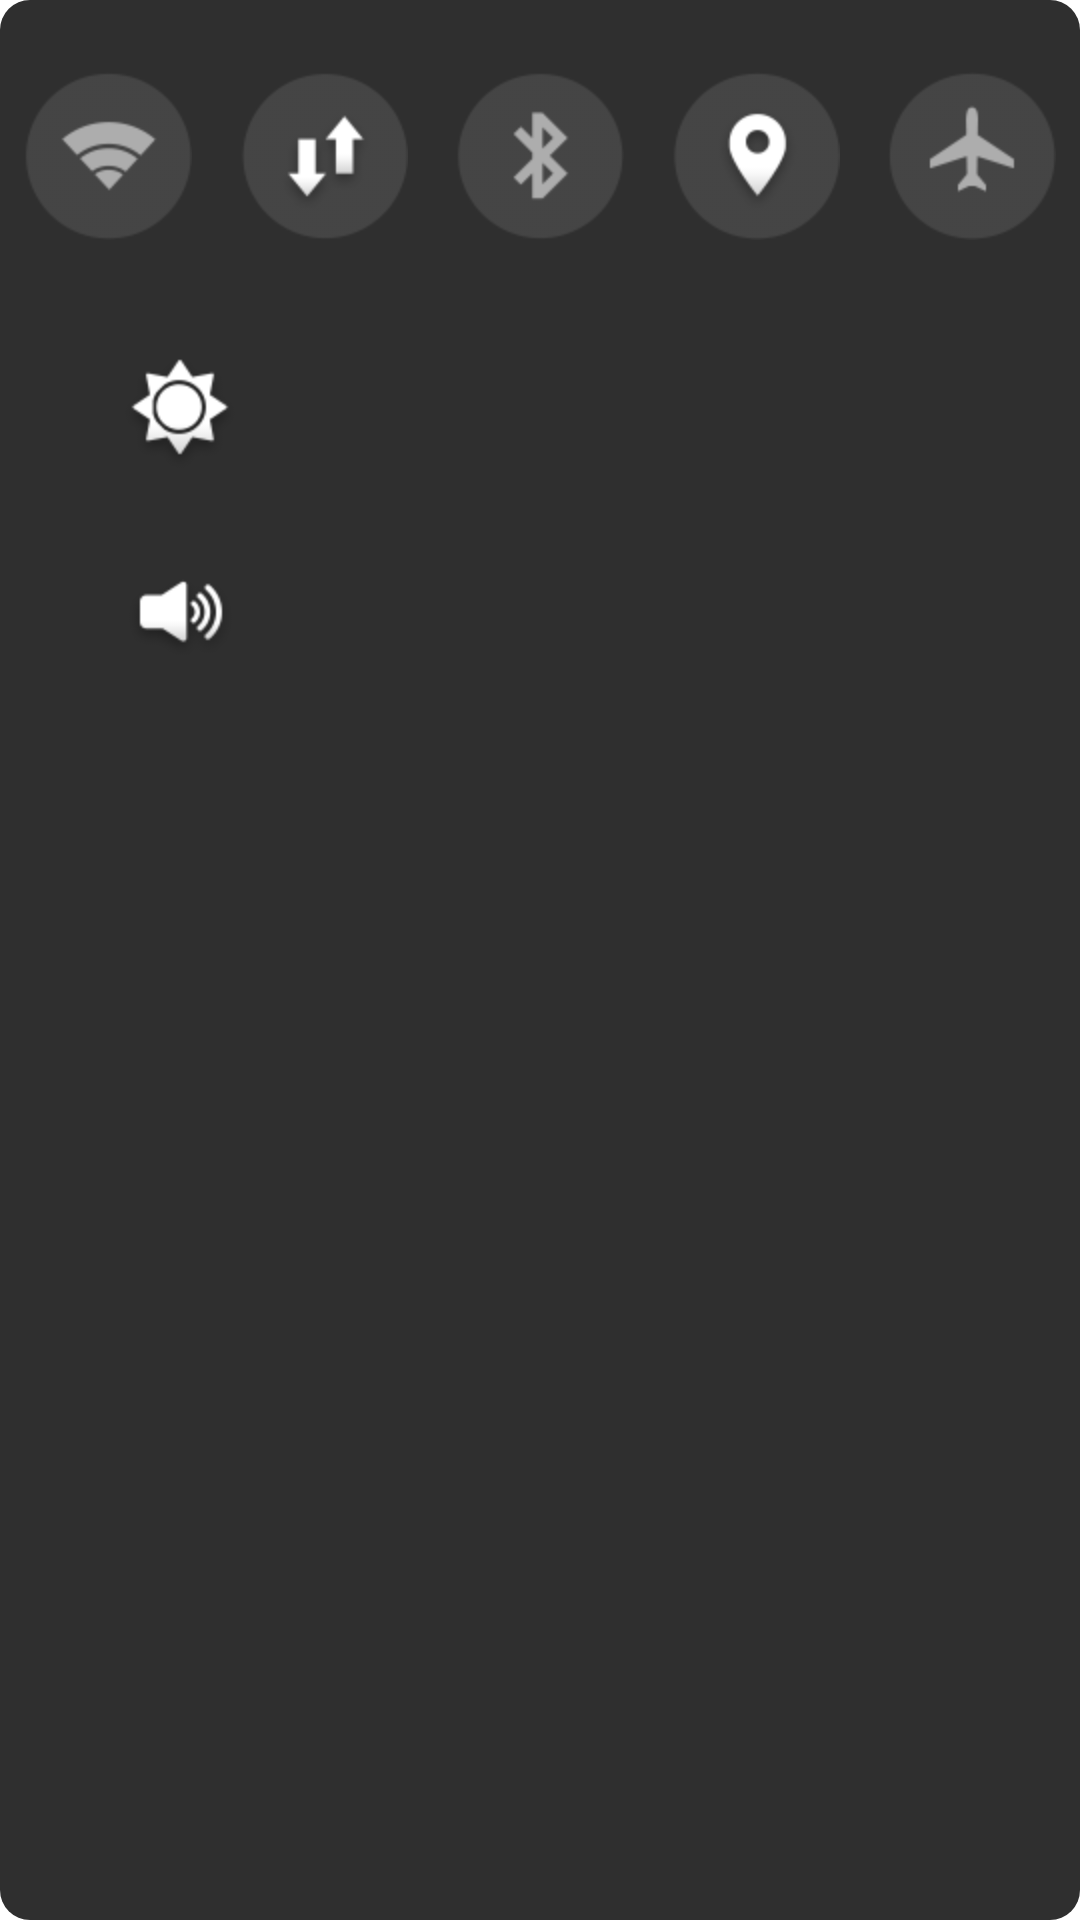

Locate icon controls on the screen. Image size 1080x1920, boxes as (x1, y1, x2, y2).
quick setting airplane off: (890, 74, 1055, 239)
quick setting brightness: (132, 359, 228, 455)
quick setting data on: (243, 74, 408, 238)
quick setting gps on: (727, 113, 787, 197)
quick setting volume: (139, 581, 223, 642)
quick setting wifi off: (61, 121, 157, 191)
